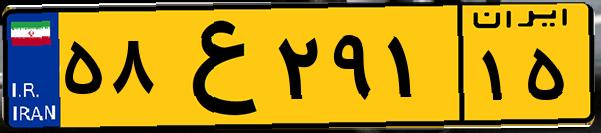1: (385, 28, 445, 110), (475, 38, 525, 113)
2: (270, 28, 330, 110)
5: (57, 26, 110, 100), (525, 38, 570, 115)
8: (110, 28, 158, 98)
9: (330, 28, 385, 110)
ع: (158, 12, 270, 120)
